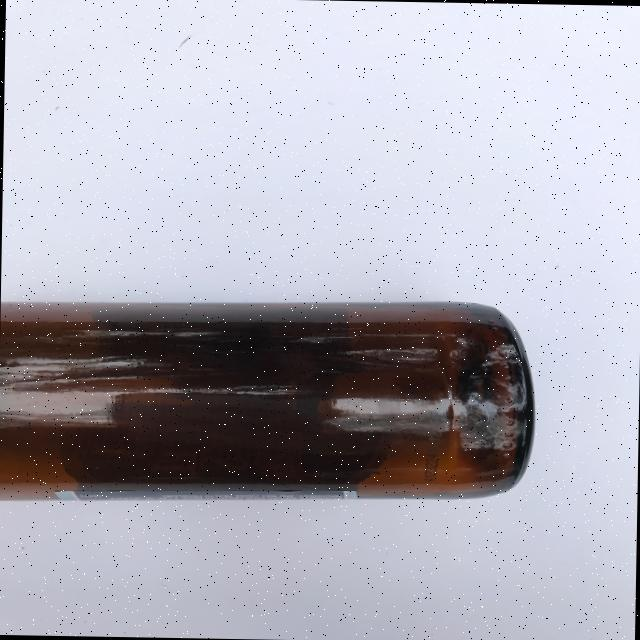glass: (0, 292, 537, 507)
